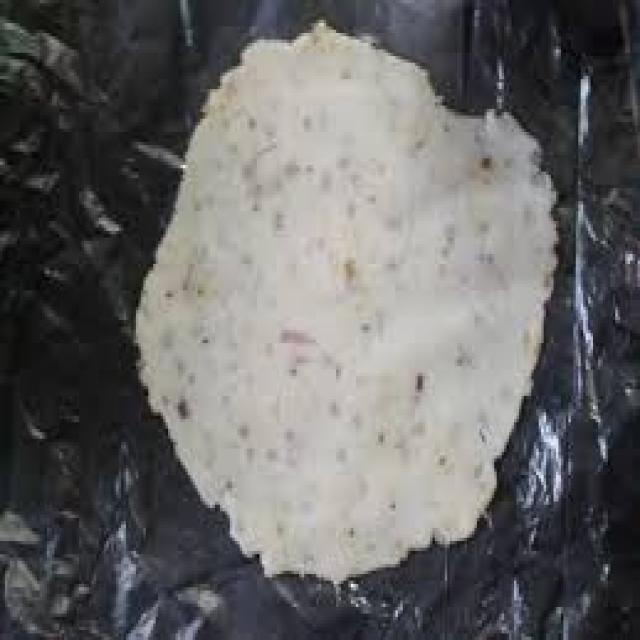RICE BHAKRI: (134, 25, 563, 598)
